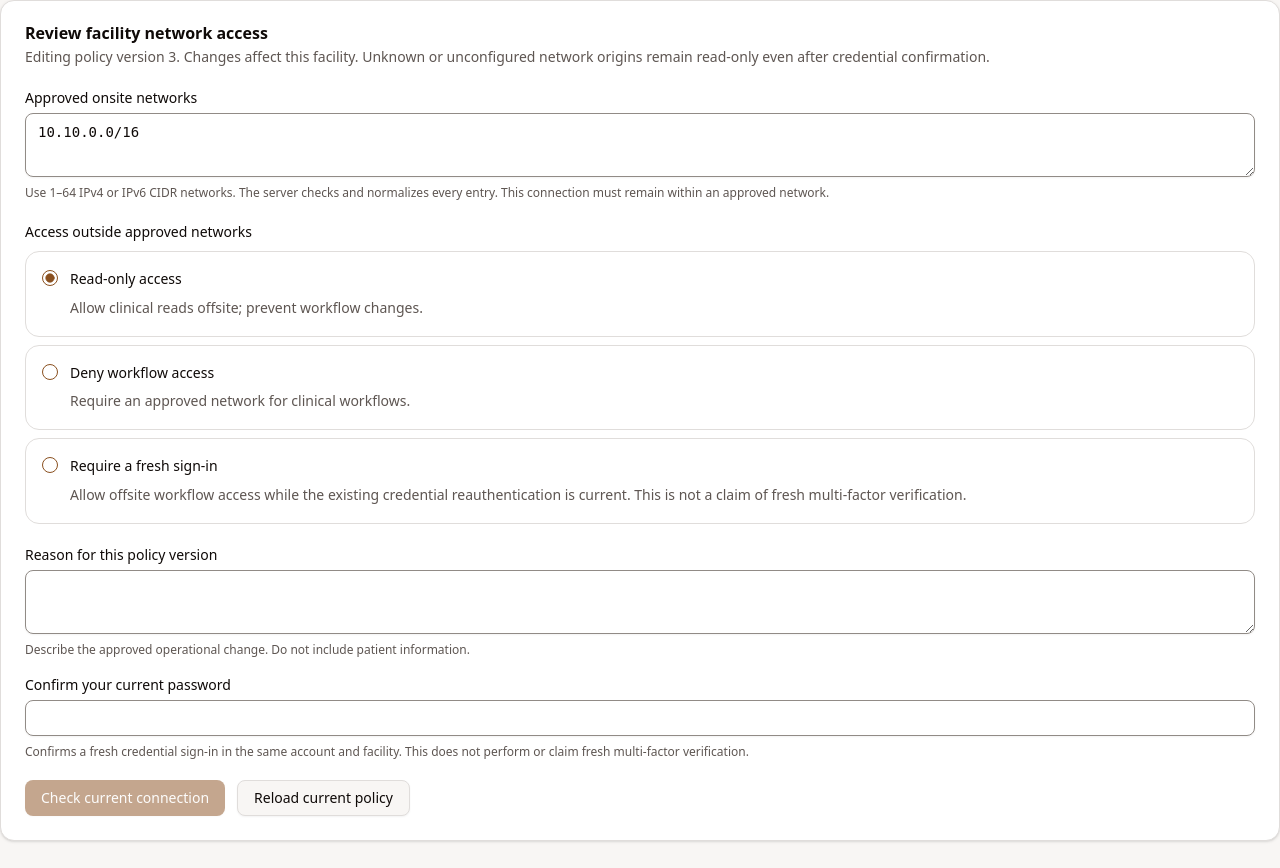
Test: reviewed network policy workflow › does not preview or save after reauthentication changes authority
Type "Synthetic reason" into the text box labelled "Reason for this policy version".
click(640, 602); type("Synthetic reason")  # box x1=25 y1=570 x2=1255 y2=634
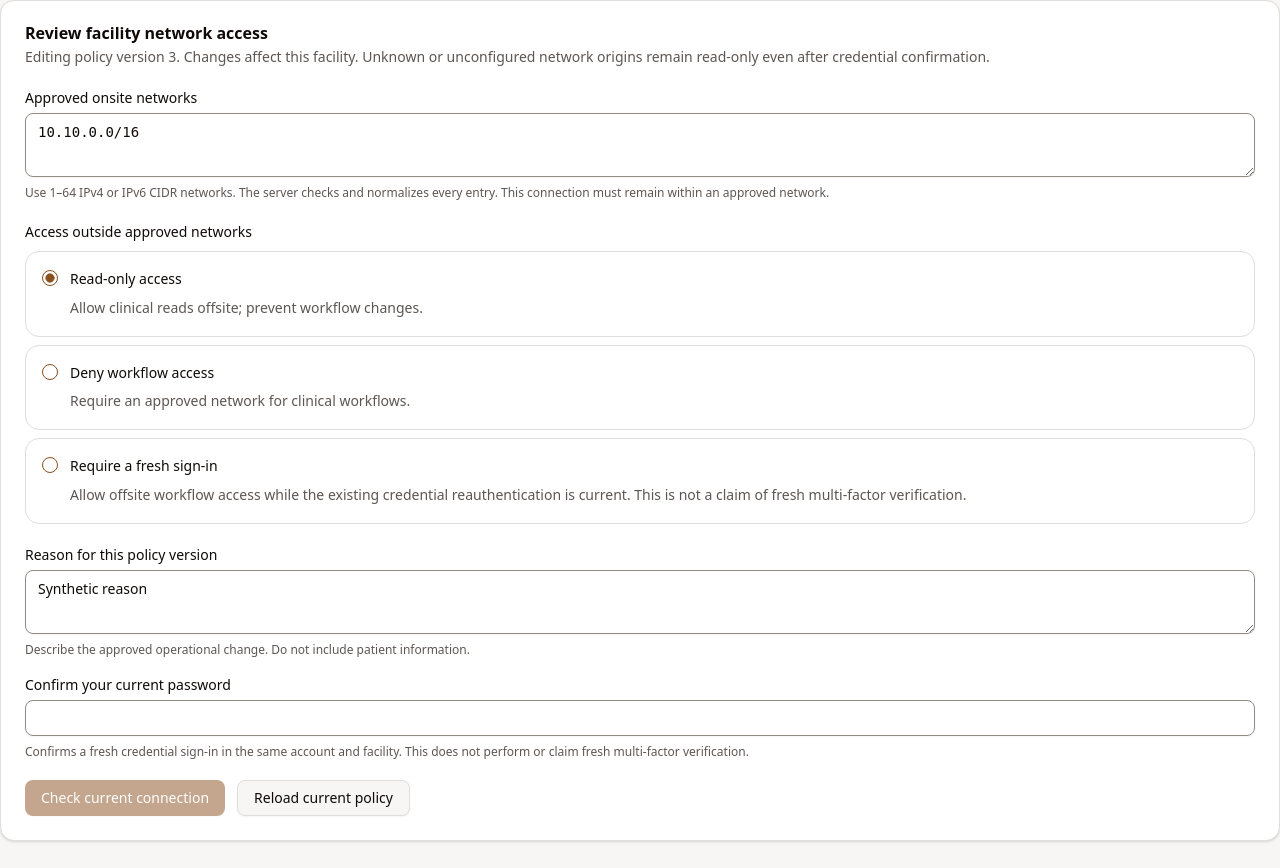
Type "Synthetic password" into the password field labelled "Confirm your current password".
click(640, 718); type("Synthetic password")  # box x1=25 y1=700 x2=1255 y2=736
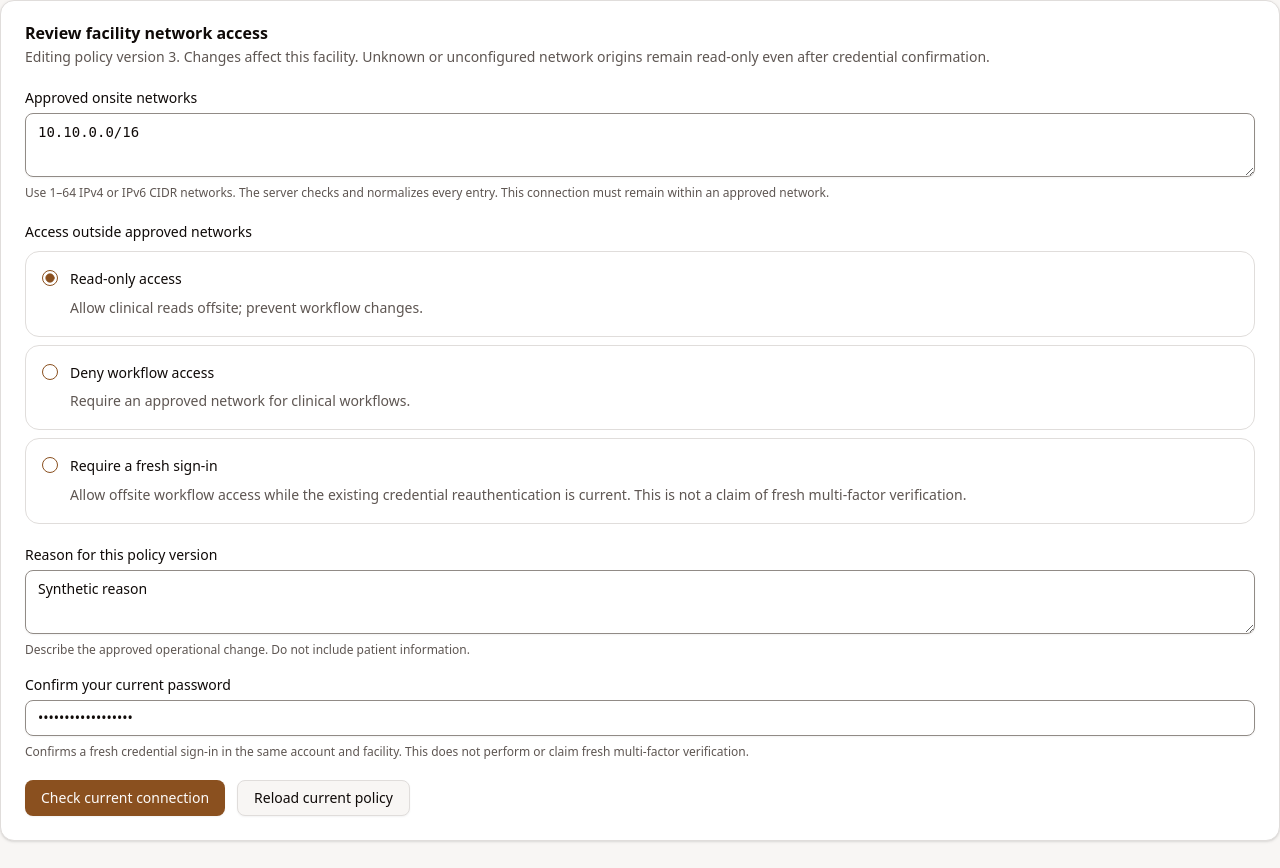
Click the button "Check current connection".
click(125, 798)  # box x1=25 y1=780 x2=225 y2=816
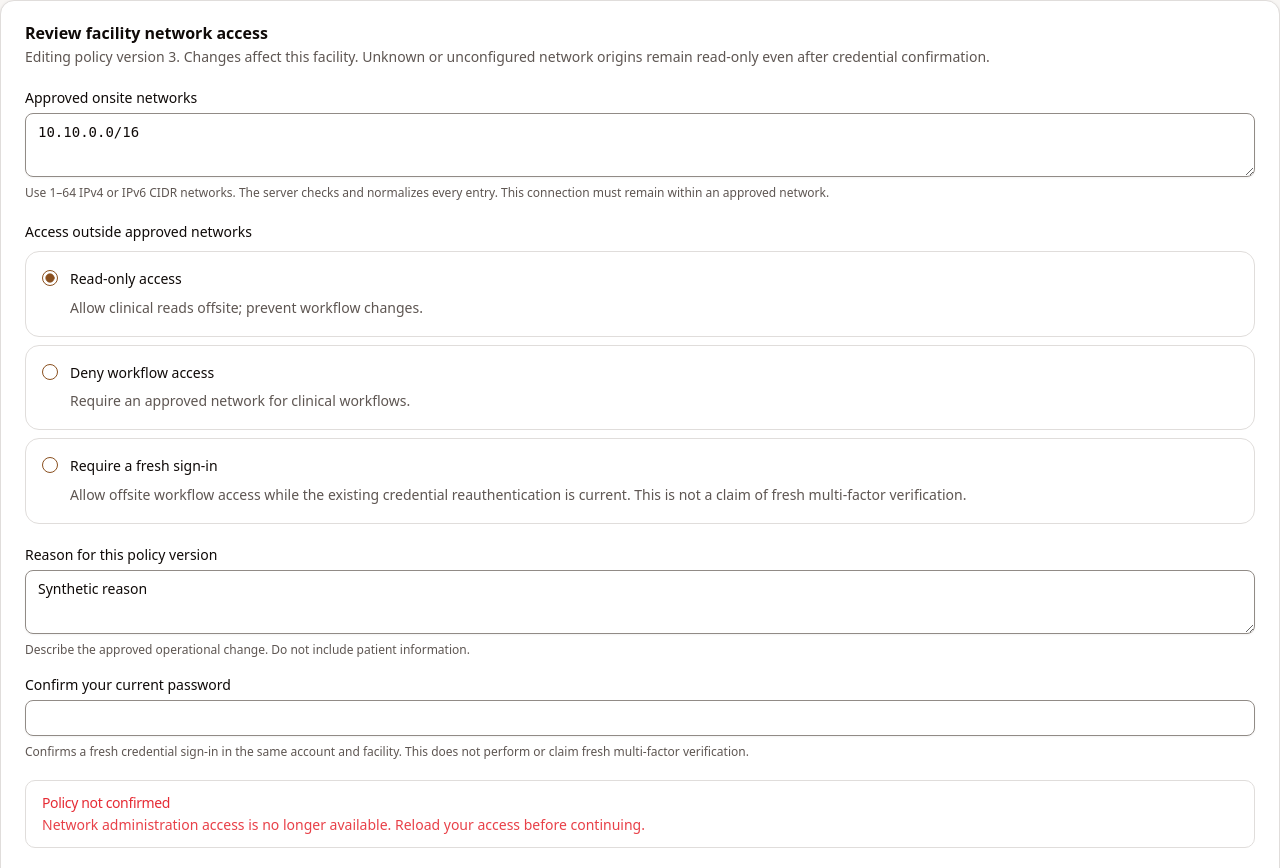
Expected: the text "administration access is no longer available" is shown, x1=42 y1=814 x2=645 y2=834
Expected: the password field labelled "Confirm your current password" is empty, x1=25 y1=700 x2=1255 y2=736
